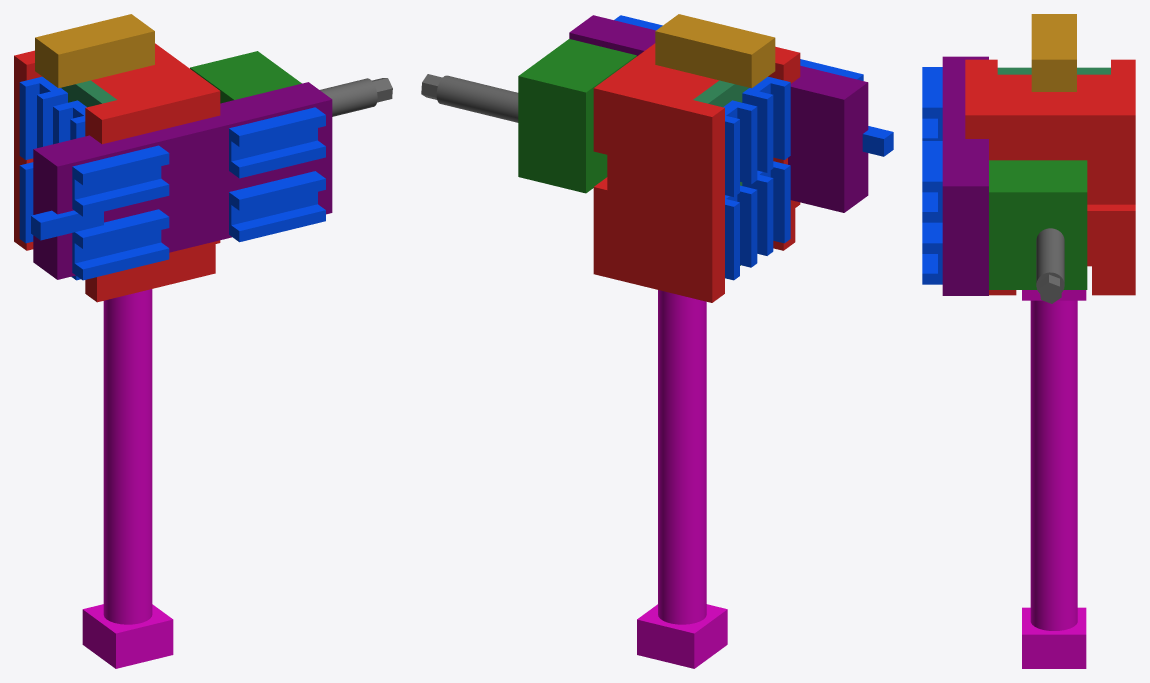
Rendered from dayamam_kizak_arka.glb.
3 renders of one model, left to right at view 1: azimuth 30°, elevation 25°; view 2: azimuth 150°, elevation 25°; view 3: azimuth 270°, elevation 25°, orthographic. The views are drawn at different scales.
Parts seen in each view (by area): view 1: 03 - 38 - DAYAMA KIZAK ON KAFA, 03 - 16 - DAYAMA TA\X2\015E\X0\IYICI, 03 - 09 - DAYAMA G\X\D6VDE, 03 - 08 - KIZAK TA\X2\015E\X0\IYICI BA\X2\011E\X0\LANTI PAR\, SOLID014, SOLID015, SOLID016, SOLID013, 03 - 15 - DAYAMA KOL V\X2\0130\X0\DASI DESTEK, SOLID010, 03 - 38- DAYAMA V\X2\0130\X0\DASI, 03 - 36 - TA\X2\015E\X0\IYICI TIRNAK (+3 smaller); view 2: 03 - 09 - DAYAMA G\X\D6VDE, 03 - 38 - DAYAMA KIZAK ON KAFA, 03 - 16 - DAYAMA TA\X2\015E\X0\IYICI, 03 - 15 - DAYAMA KOL V\X2\0130\X0\DASI DESTEK, 03 - 08 - KIZAK TA\X2\015E\X0\IYICI BA\X2\011E\X0\LANTI PAR\, SOLID011, SOLID012, 03 - 38- DAYAMA V\X2\0130\X0\DASI, SOLID010, SOLID009, 03 - 31 - RULMAN BA\X2\011E\X0\LANTI PAR\X\C7ASI, 03 - 36 - TA\X2\015E\X0\IYICI TIRNAK; view 3: 03 - 09 - DAYAMA G\X\D6VDE, 03 - 38 - DAYAMA KIZAK ON KAFA, 03 - 15 - DAYAMA KOL V\X2\0130\X0\DASI DESTEK, 03 - 16 - DAYAMA TA\X2\015E\X0\IYICI, 03 - 08 - KIZAK TA\X2\015E\X0\IYICI BA\X2\011E\X0\LANTI PAR\, 03 - 38- DAYAMA V\X2\0130\X0\DASI, SOLID015, SOLID014, SOLID016, 03 - 31 - RULMAN BA\X2\011E\X0\LANTI PAR\X\C7ASI.
Boxes of the visible parts, x1,y1,x2,y2 form: 03 - 38 - DAYAMA KIZAK ON KAFA: (82,289,173,668); 03 - 16 - DAYAMA TA\X2\015E\X0\IYICI: (33,82,332,279); 03 - 09 - DAYAMA G\X\D6VDE: (14,43,220,302); 03 - 08 - KIZAK TA\X2\015E\X0\IYICI BA\X2\011E\X0\LANTI PAR\: (35,14,154,88); SOLID014: (72,145,169,216); SOLID015: (229,107,325,178); SOLID016: (229,171,325,242); SOLID013: (72,209,169,280); 03 - 15 - DAYAMA KOL V\X2\0130\X0\DASI DESTEK: (190,51,301,103); SOLID010: (19,76,67,159); 03 - 38- DAYAMA V\X2\0130\X0\DASI: (320,78,392,116); 03 - 36 - TA\X2\015E\X0\IYICI TIRNAK: (31,210,103,240); 03 - 09 - DAYAMA G\X\D6VDE: (593,43,800,302); 03 - 38 - DAYAMA KIZAK ON KAFA: (637,290,727,668); 03 - 16 - DAYAMA TA\X2\015E\X0\IYICI: (569,15,868,212); 03 - 15 - DAYAMA KOL V\X2\0130\X0\DASI DESTEK: (518,39,636,193); 03 - 08 - KIZAK TA\X2\015E\X0\IYICI BA\X2\011E\X0\LANTI PAR\: (655,14,775,88); SOLID011: (742,76,790,172); SOLID012: (742,161,790,255); 03 - 38- DAYAMA V\X2\0130\X0\DASI: (421,74,518,122); SOLID010: (723,100,757,196); SOLID009: (725,185,757,280); 03 - 31 - RULMAN BA\X2\011E\X0\LANTI PAR\X\C7ASI: (693,80,749,265); 03 - 36 - TA\X2\015E\X0\IYICI TIRNAK: (862,126,893,156); 03 - 09 - DAYAMA G\X\D6VDE: (965,59,1135,295); 03 - 38 - DAYAMA KIZAK ON KAFA: (1022,290,1086,668); 03 - 15 - DAYAMA KOL V\X2\0130\X0\DASI DESTEK: (989,160,1087,289); 03 - 16 - DAYAMA TA\X2\015E\X0\IYICI: (942,56,988,295); 03 - 08 - KIZAK TA\X2\015E\X0\IYICI BA\X2\011E\X0\LANTI PAR\: (1031,14,1076,91); 03 - 38- DAYAMA V\X2\0130\X0\DASI: (1036,228,1064,303); SOLID015: (922,141,942,222); SOLID014: (922,67,942,140); SOLID016: (922,222,942,284); 03 - 31 - RULMAN BA\X2\011E\X0\LANTI PAR\X\C7ASI: (997,67,1110,74).
Size of the model in its own units: 0.4805 by 0.704 by 0.2255.
